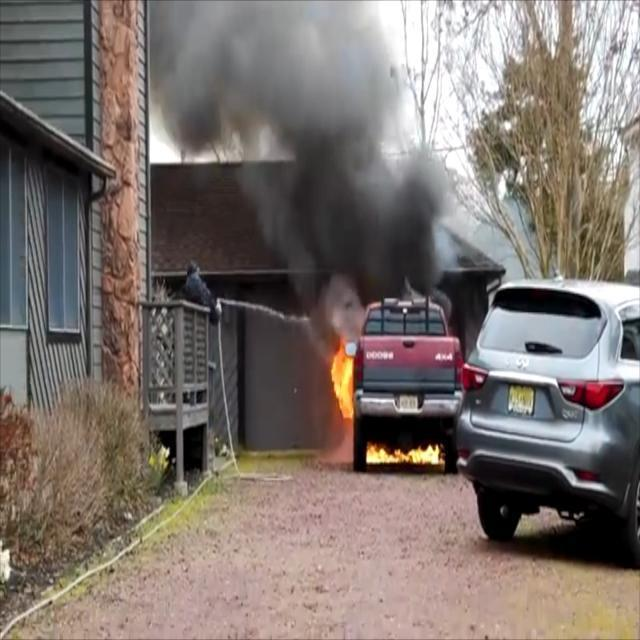fire: (330, 330, 356, 427), (362, 443, 444, 471)
